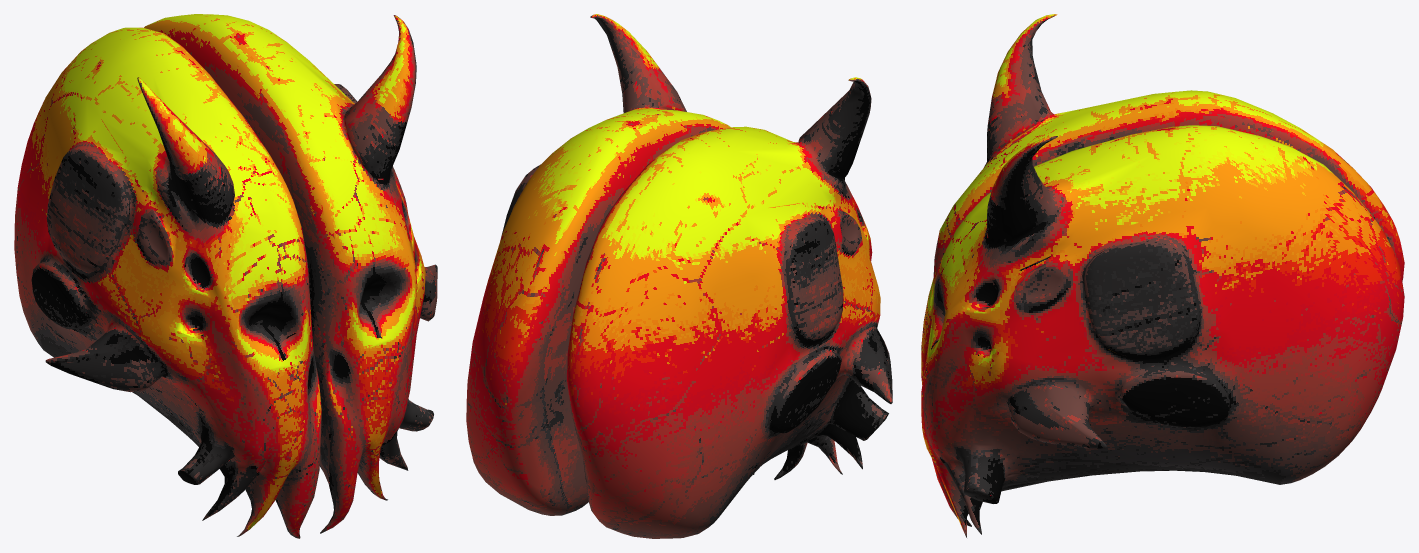
Rendered from hollow.glb.
The picture shows the model from 3 angles, left to right: view 1: azimuth 30°, elevation 25°; view 2: azimuth 150°, elevation 25°; view 3: azimuth 270°, elevation 25°; orthographic projection. The views are drawn at different scales.
Parts seen in each view (by area): view 1: Resized Skull; view 2: Resized Skull; view 3: Resized Skull.
Part boxes in pixels (x1=…): Resized Skull: x1=14, y1=14, x2=437, y2=538; Resized Skull: x1=466, y1=14, x2=892, y2=538; Resized Skull: x1=921, y1=14, x2=1404, y2=537.
Bounding box in the file's own units: 4.14 × 4.63 × 4.54.
Materials: 1 (1 with a texture image).
